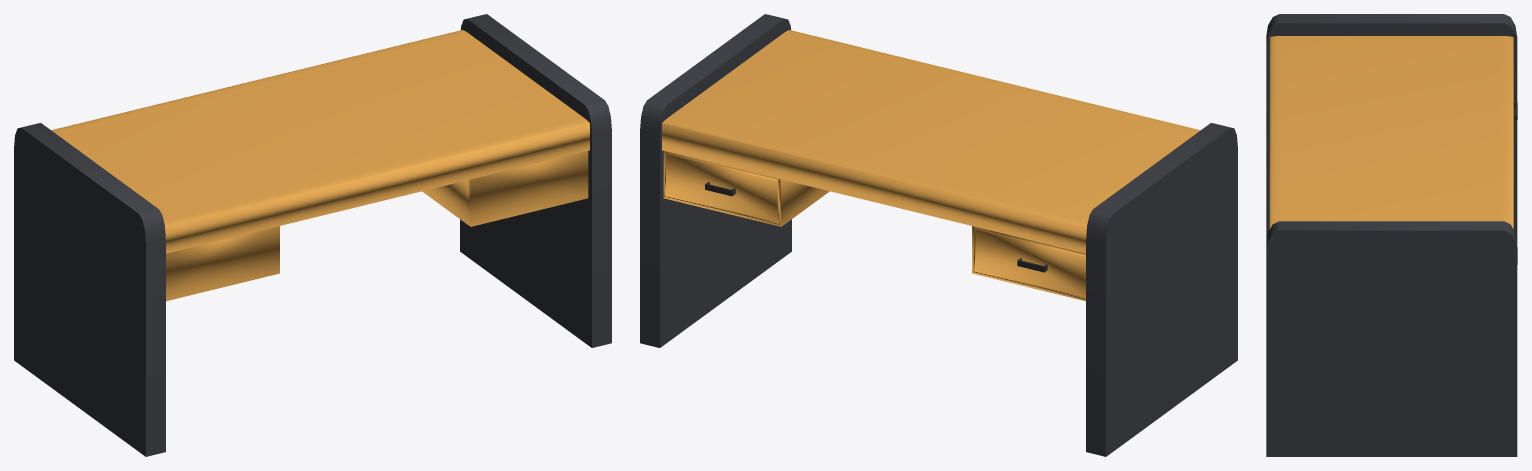
The model's file is DeskWithDrawers.fbx.
3 views of the same model, side by side, from view 1: azimuth 30°, elevation 25°; view 2: azimuth 150°, elevation 25°; view 3: azimuth 270°, elevation 25° (orthographic). The views are drawn at different scales.
Visible parts, largest first — view 1: Cube, Cube.001, Cube.002, Cube.003, Cube.004; view 2: Cube, Cube.001, Cube.002, Cube.008, Cube.007, Cube.003, Cube.004; view 3: Cube.002, Cube, Cube.001.
Boxes of the visible parts, x1,y1,x2,y2 form: Cube: (51,30,589,253); Cube.001: (14,123,165,456); Cube.002: (460,14,611,347); Cube.003: (422,151,588,226); Cube.004: (166,226,279,301); Cube: (662,30,1200,253); Cube.001: (1086,123,1237,456); Cube.002: (640,14,791,347); Cube.008: (666,153,777,221); Cube.007: (975,228,1085,297); Cube.003: (663,151,829,226); Cube.004: (972,226,1085,301); Cube.002: (1266,221,1517,456); Cube: (1269,36,1513,228); Cube.001: (1266,14,1517,243).
Size of the model in its own units: 622 by 303 by 305.
